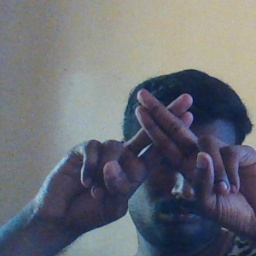F: (99, 87, 236, 205)
